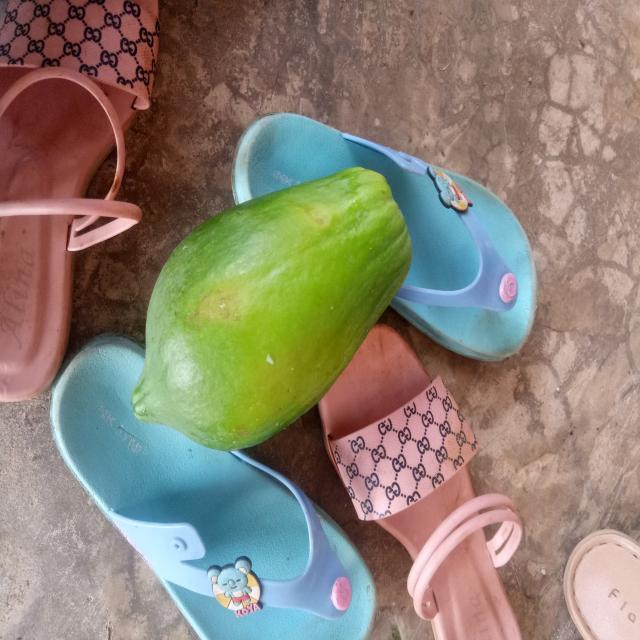Pepaya unrippen: (127, 158, 415, 441)
